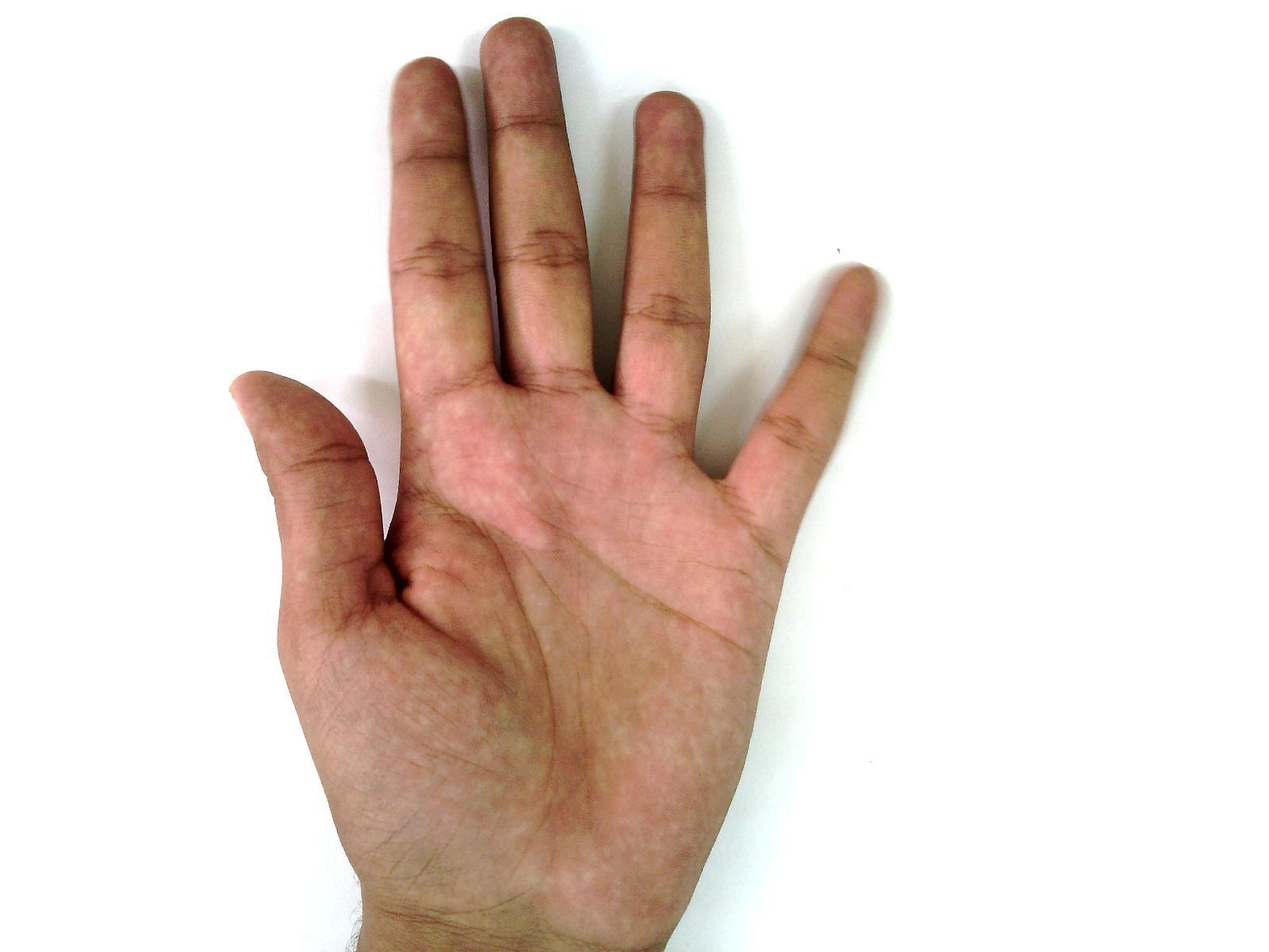open_palm: (228, 17, 888, 949)
